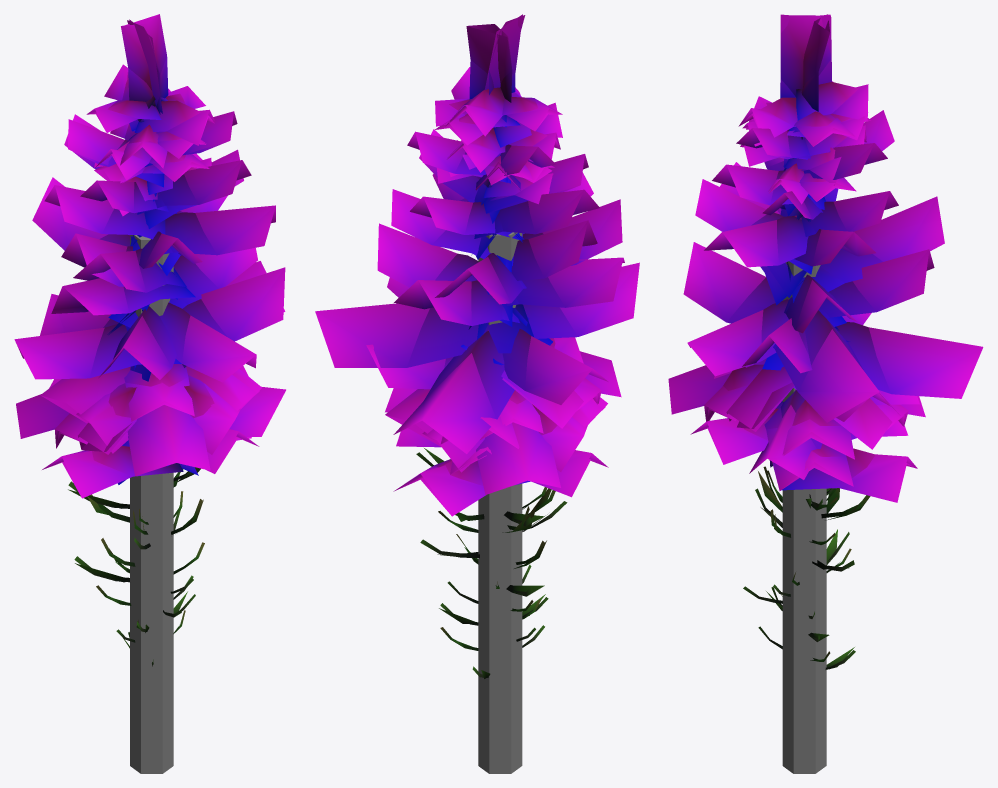
The model's file is pine_radiata_large.dae.
3 views of the same model, side by side, from view 1: azimuth 30°, elevation 25°; view 2: azimuth 150°, elevation 25°; view 3: azimuth 270°, elevation 25° (orthographic).
Visible parts, largest first — view 1: pine_radiata_small_a170, pine_radiata_small_a420, Colmesh-1; view 2: pine_radiata_small_a170, pine_radiata_small_a420, Colmesh-1; view 3: pine_radiata_small_a170, pine_radiata_small_a420, Colmesh-1.
Part boxes in pixels (x1,y1,x2,y2): pine_radiata_small_a170: [14, 14, 285, 648]; pine_radiata_small_a420: [15, 14, 285, 666]; Colmesh-1: [130, 235, 173, 773]; pine_radiata_small_a170: [315, 14, 639, 678]; pine_radiata_small_a420: [315, 15, 639, 677]; Colmesh-1: [478, 232, 522, 773]; pine_radiata_small_a170: [668, 15, 982, 669]; pine_radiata_small_a420: [675, 14, 983, 669]; Colmesh-1: [782, 261, 826, 773].
Bounding box in the file's own units: 3.45 × 3.58 × 9.36.
